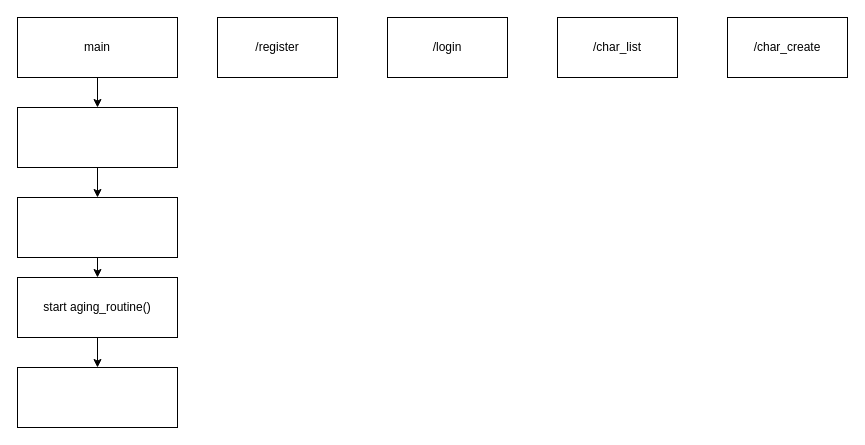
This 865x445 diagram has some shape labels left out. The shapes that lost their labels are listed below. From the top down, each one's centre as x and y in pixels, then its label:
At point (97, 137): "myconfig=myloading()".
At point (97, 227): "opencon(myconfig) export mydb".
At point (97, 397): "start webserver, start websocket".
